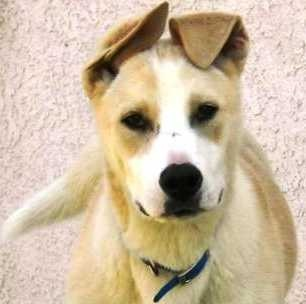Dog: (23, 2, 296, 302)
